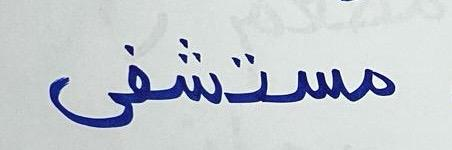meem: (351, 50, 403, 109)
noon: (43, 69, 123, 131), (226, 46, 271, 111)
qaf: (124, 38, 153, 105)
seen: (274, 48, 348, 110)
sheen: (155, 33, 223, 109)
